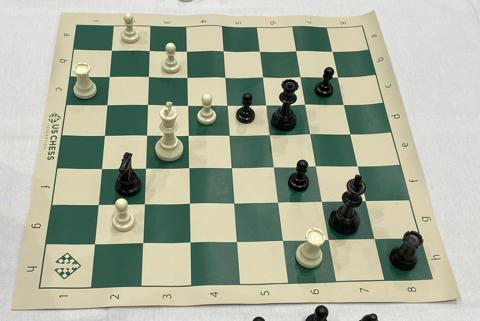xcorner: (327, 44, 338, 55), (291, 44, 302, 55), (255, 44, 266, 55), (218, 44, 229, 55), (181, 44, 192, 55), (144, 44, 155, 55), (333, 70, 344, 81), (295, 70, 306, 81), (258, 70, 269, 81), (220, 70, 231, 81), (182, 70, 193, 81), (143, 70, 154, 81), (104, 70, 115, 81), (339, 97, 350, 108), (261, 98, 272, 109), (222, 98, 233, 109), (182, 98, 193, 109), (142, 98, 153, 109), (101, 99, 112, 110), (345, 127, 356, 138), (305, 127, 316, 138), (265, 128, 276, 139), (224, 128, 235, 139), (182, 128, 193, 139), (141, 129, 152, 140), (99, 129, 110, 140), (353, 159, 364, 170), (311, 160, 322, 171), (269, 160, 280, 171), (226, 161, 237, 172), (183, 161, 194, 172), (140, 162, 151, 173), (96, 162, 107, 173), (361, 194, 372, 205), (317, 195, 328, 206), (273, 195, 284, 206), (228, 196, 239, 207), (184, 197, 195, 208), (138, 198, 149, 209), (92, 198, 103, 209), (369, 232, 380, 243), (324, 233, 335, 244), (278, 234, 289, 245), (231, 235, 242, 246), (184, 236, 195, 247), (137, 237, 148, 248), (89, 238, 100, 249), (107, 44, 117, 55), (300, 98, 311, 108)
